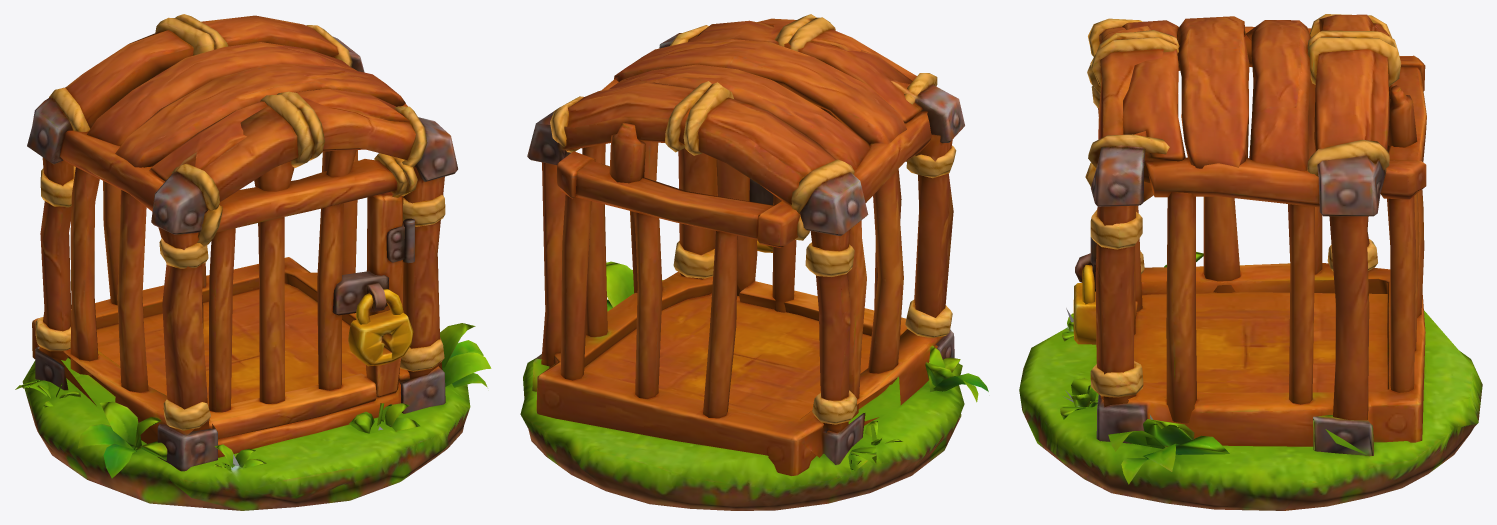
Rendered from cage.glb.
3 renders of one model, left to right at view 1: azimuth 30°, elevation 25°; view 2: azimuth 150°, elevation 25°; view 3: azimuth 270°, elevation 25°, orthographic. The views are drawn at different scales.
Visible parts, largest first — view 1: geometry_0; view 2: geometry_0; view 3: geometry_0.
Part boxes in pixels (x1,y1,x2,y2): geometry_0: (15,14,491,510); geometry_0: (520,14,988,510); geometry_0: (1019,14,1482,510).
Size of the model in its own units: 0.9575 by 0.834 by 0.918.
Materials: 1 (1 with a texture image).
